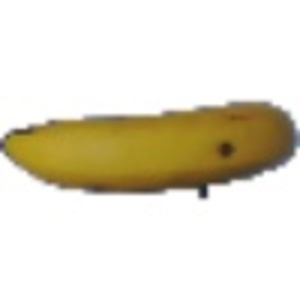banana: (1, 92, 297, 194)
